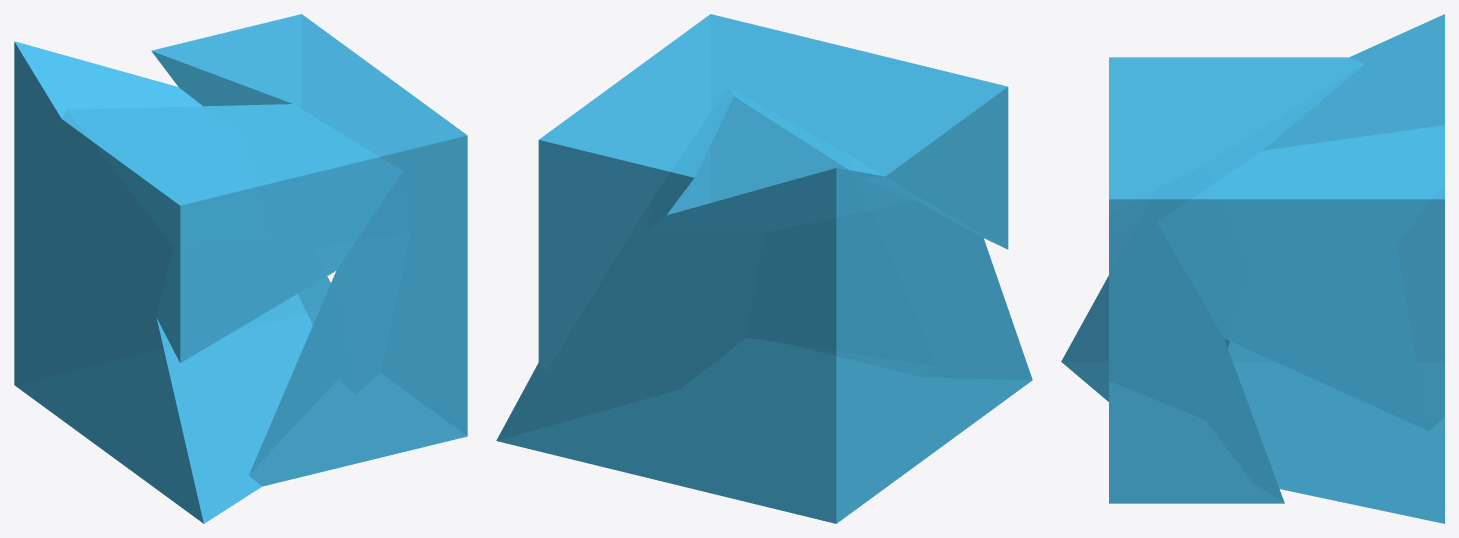
File: HeptagonalDodecahedron_C.obj
The picture shows the model from 3 angles, left to right: view 1: azimuth 30°, elevation 25°; view 2: azimuth 150°, elevation 25°; view 3: azimuth 270°, elevation 25°; orthographic projection. The views are drawn at different scales.
Size of the model in its own units: 12 by 12 by 12.
